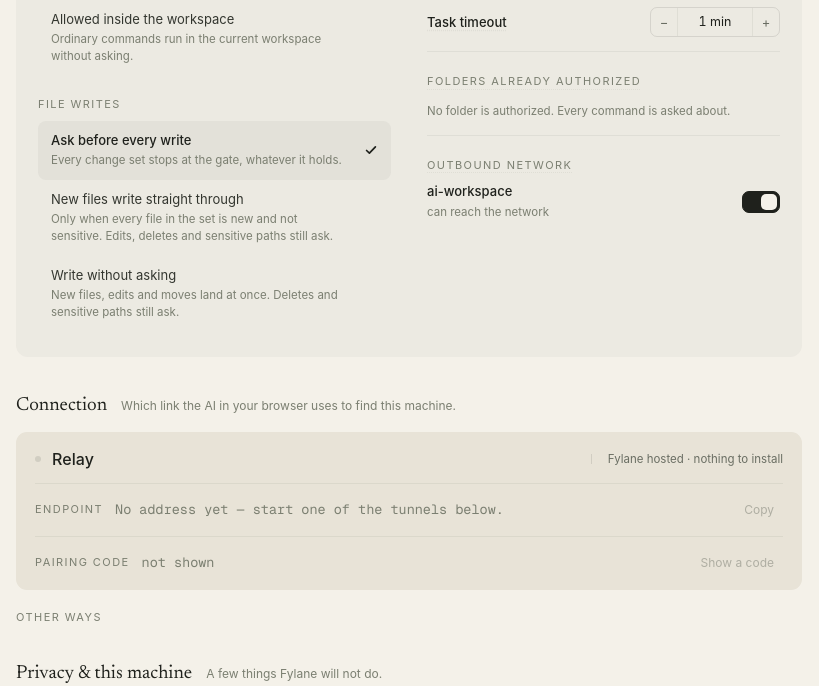
Test case: the file-write approval policy › asks in place before writing without asking, then tells the Core it was acknowledged
This screenshot has width=819, height=686.
(page scrolled)
Click the radio button that starts with "Write without asking": {"x": 214, "y": 294} [38,256,391,333]
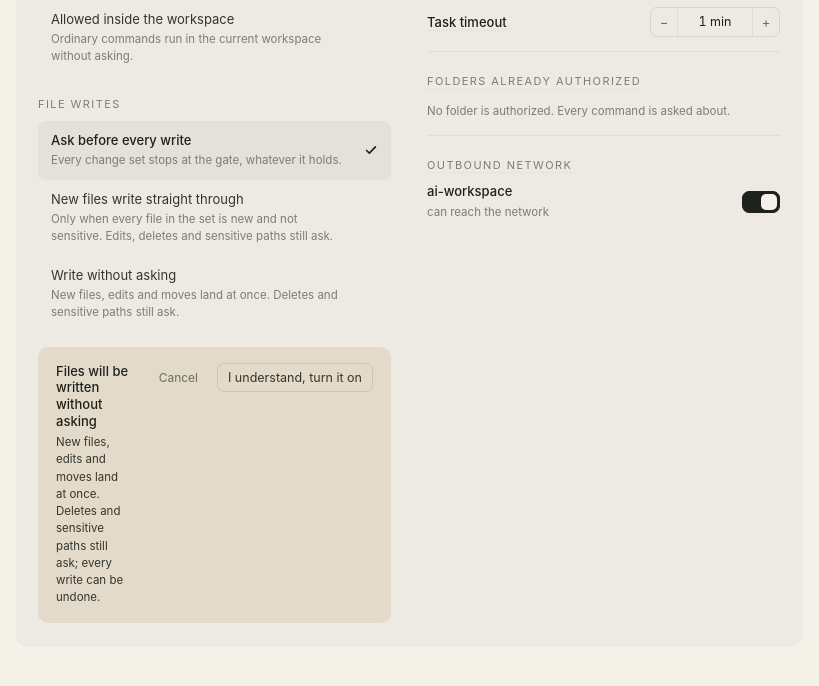
expect the text "Files will be written without asking" is shown: met, box [56,363,130,430]
Click the button "Cancel": {"x": 178, "y": 377} [150,365,207,390]
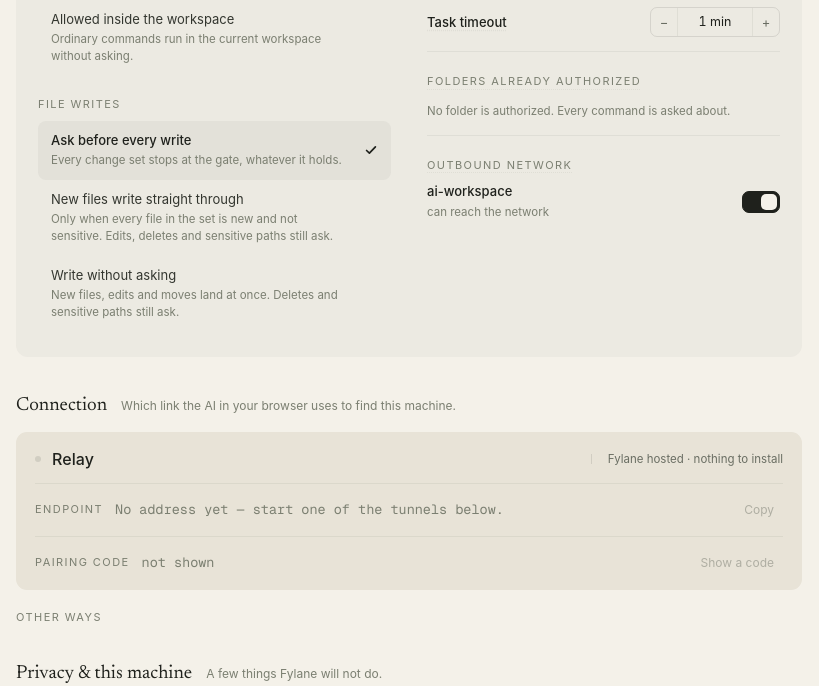
expect the text "Files will be written without asking" is gone: met
Click the radio button that starts with "Write without asking": {"x": 214, "y": 294} [38,256,391,333]
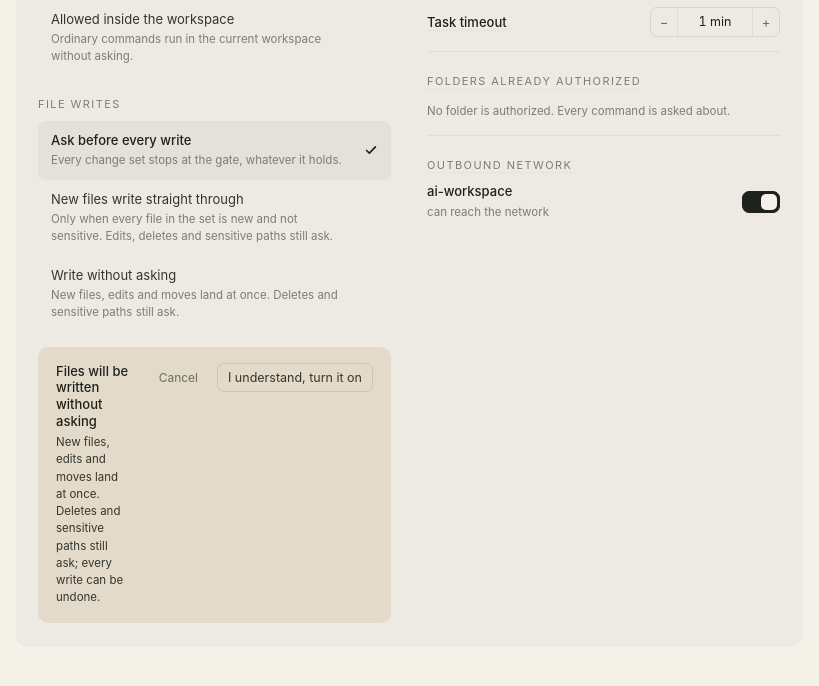
Click the button "I understand, turn it on": {"x": 295, "y": 377} [217,363,373,392]
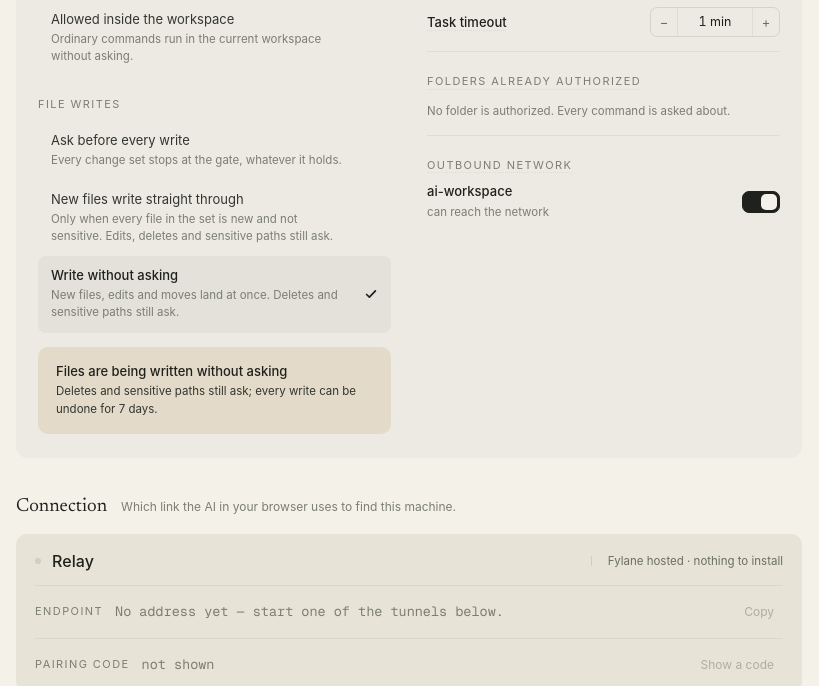
expect the text "Files are being written without asking" is shown: met, box [56,363,287,379]
